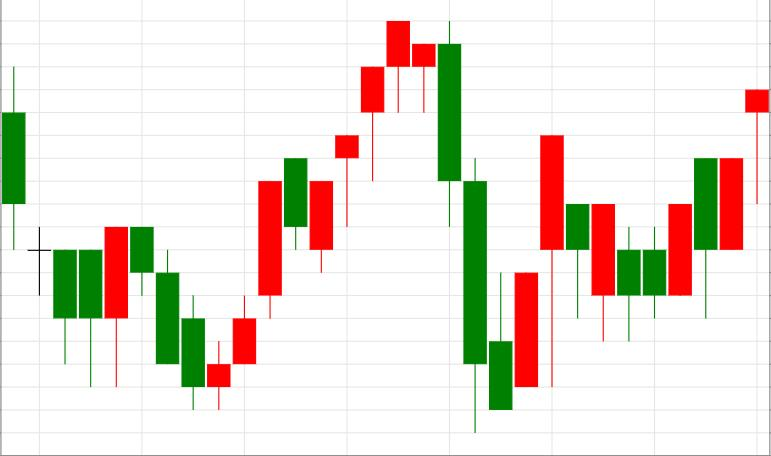hanging_man_fall: (207, 21, 410, 411)
